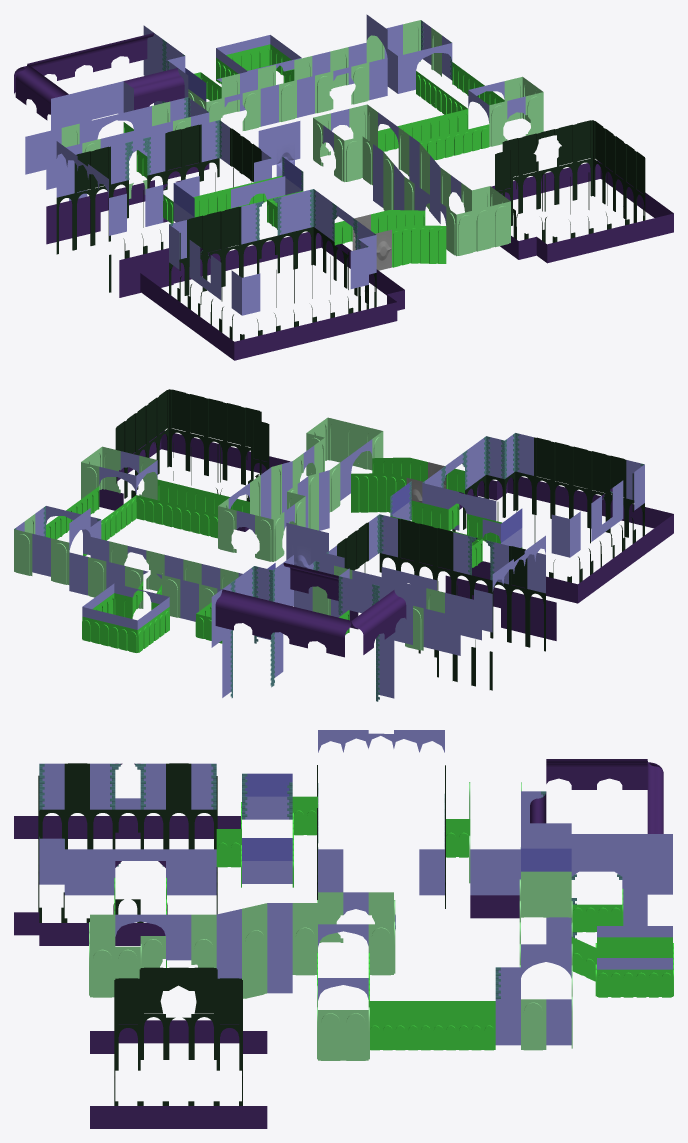
The model's file is RunnelsExport4.fbx.
3 views of the same model, one above another, from view 1: azimuth 30°, elevation 25°; view 2: azimuth 150°, elevation 25°; view 3: azimuth 270°, elevation 25° (orthographic). The views are drawn at different scales.
Visible parts, largest first — view 1: no part large enough to name; view 2: no part large enough to name; view 3: WallBlank099, WallArch007, WallSocketed027, WallSocketed030, eWallBlank018, WallBlank019, WallArch040, WallArchLower032, WallSocketed046, WallBlank044, WallBlank064, WallBlank065 (+75 smaller).
Part boxes in pixels (x1,y1,x2,y2): WallBlank099: (521,944,571,978); WallArch007: (115,946,140,969); WallSocketed027: (419,1022,444,1045); WallSocketed030: (470,1022,495,1045); eWallBlank018: (267,924,292,947); WallBlank019: (267,947,292,970); WallArch040: (546,871,571,894); WallArchLower032: (546,894,571,917); WallSocketed046: (622,969,647,992); WallBlank044: (267,970,292,993); WallBlank064: (470,849,495,872); WallBlank065: (470,872,495,895).
Bounding box in the file's own units: 4094 × 966 × 4101.
